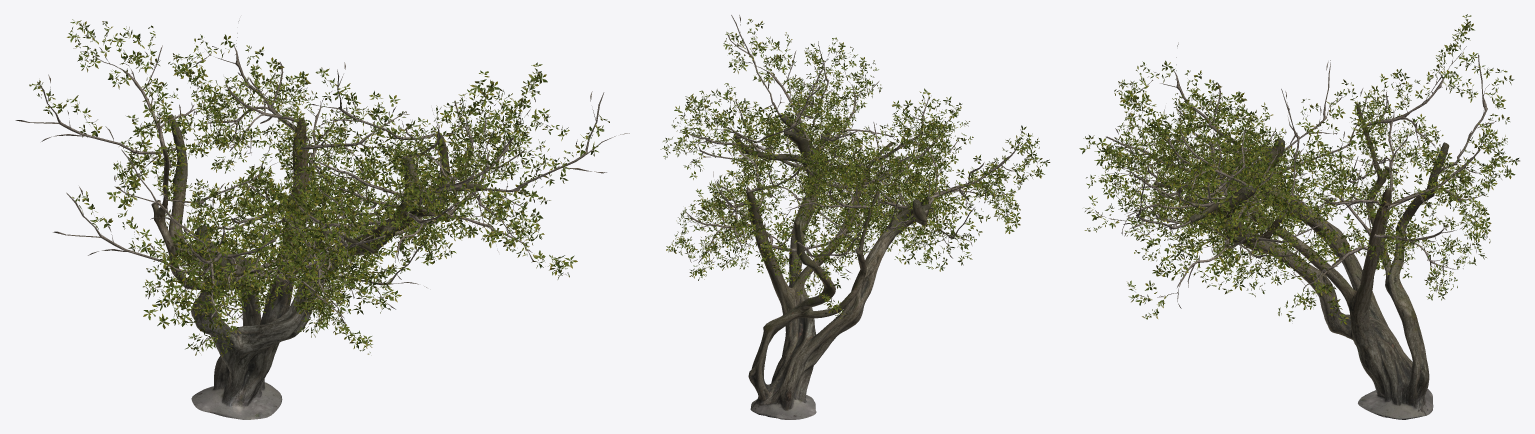
The model's file is island_tree_02-lod.glb.
3 renders of one model, left to right at view 1: azimuth 30°, elevation 25°; view 2: azimuth 150°, elevation 25°; view 3: azimuth 270°, elevation 25°, orthographic. The views are drawn at different scales.
Parts seen in each view (by area): view 1: island_tree_02_LOD0; view 2: island_tree_02_LOD0; view 3: island_tree_02_LOD0.
Part boxes in pixels (x1,y1,x2,y2): island_tree_02_LOD0: [15, 19, 629, 419]; island_tree_02_LOD0: [660, 15, 1050, 419]; island_tree_02_LOD0: [1079, 14, 1519, 419].
Size of the model in its own units: 4.21 by 3.41 by 4.07.
3 materials, 3 textured.
